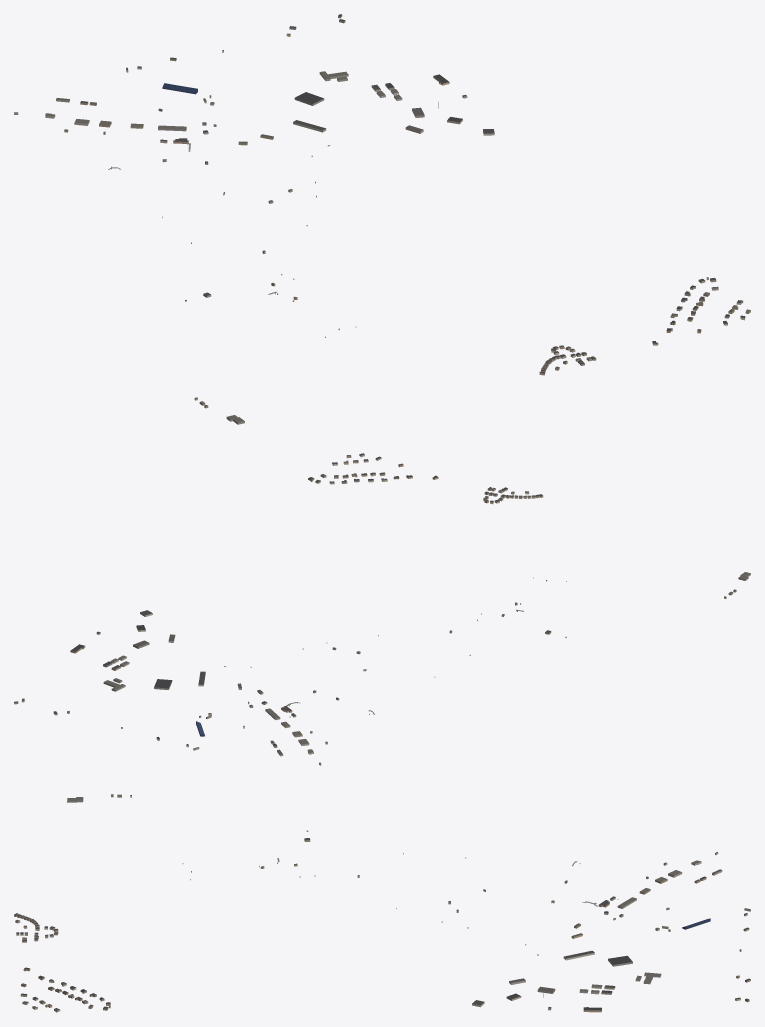
Rendered from scenery.glb.
The picture shows the model from 3 angles, top to bottom: view 1: azimuth 30°, elevation 25°; view 2: azimuth 150°, elevation 25°; view 3: azimuth 270°, elevation 25°; orthographic projection. The views are drawn at different scales.
Parts seen in each view (by area): view 1: no part large enough to name; view 2: no part large enough to name; view 3: chunk_16_12, chunk_15_18, chunk_15_12.
Boxes of the visible parts, x1,y1,x2,y2 form: chunk_16_12: (591,955,661,989); chunk_15_18: (14,913,58,942); chunk_15_12: (594,897,710,931).
Bounding box in the file's own units: 1997 × 54.98 × 2810.
